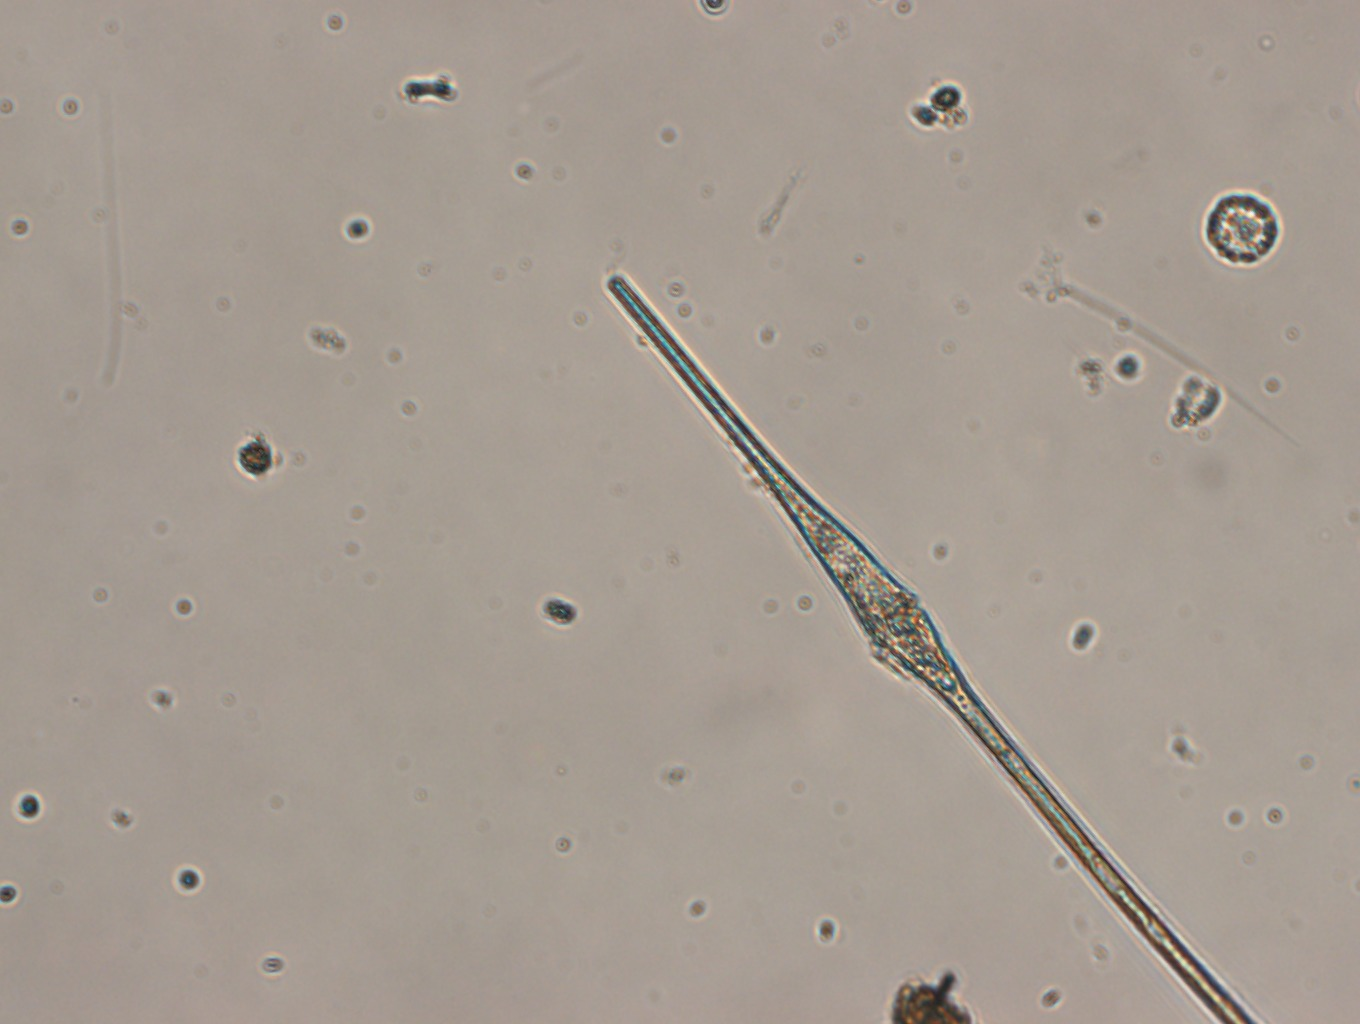ceratium fusus: (601, 265, 1262, 1024)
